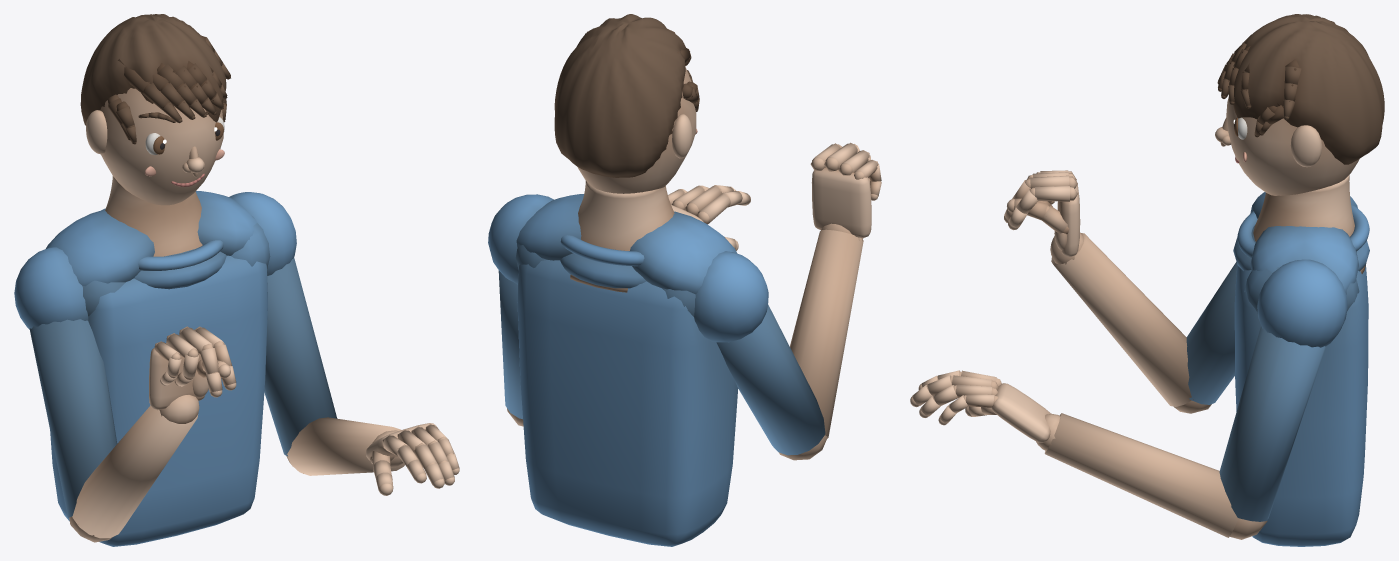
The picture shows the model from 3 angles, left to right: view 1: azimuth 30°, elevation 25°; view 2: azimuth 150°, elevation 25°; view 3: azimuth 270°, elevation 25°; orthographic projection.
Parts seen in each view (by area): view 1: LSC_Body; view 2: LSC_Body; view 3: LSC_Body.
Part boxes in pixels (bbox=[...]): LSC_Body: bbox=[14, 14, 459, 546]; LSC_Body: bbox=[488, 14, 881, 546]; LSC_Body: bbox=[910, 14, 1384, 546].
Size of the model in its own units: 0.4304 by 0.713 by 0.6104.
